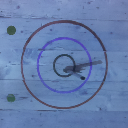Axe Tip: (70, 69, 81, 72)
